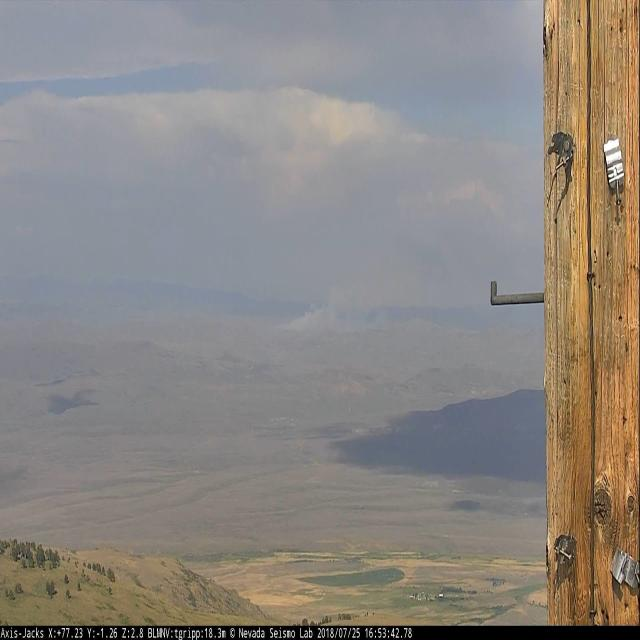smoke: (279, 270, 375, 330)
